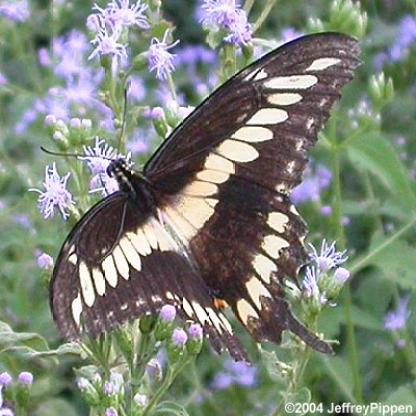Giant Swallowtail: (56, 16, 367, 377)
